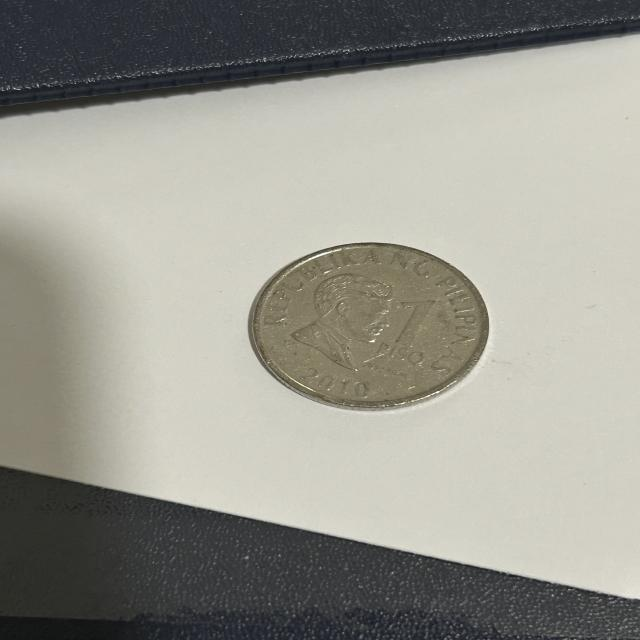1_Old_Front: (378, 296, 434, 366)
